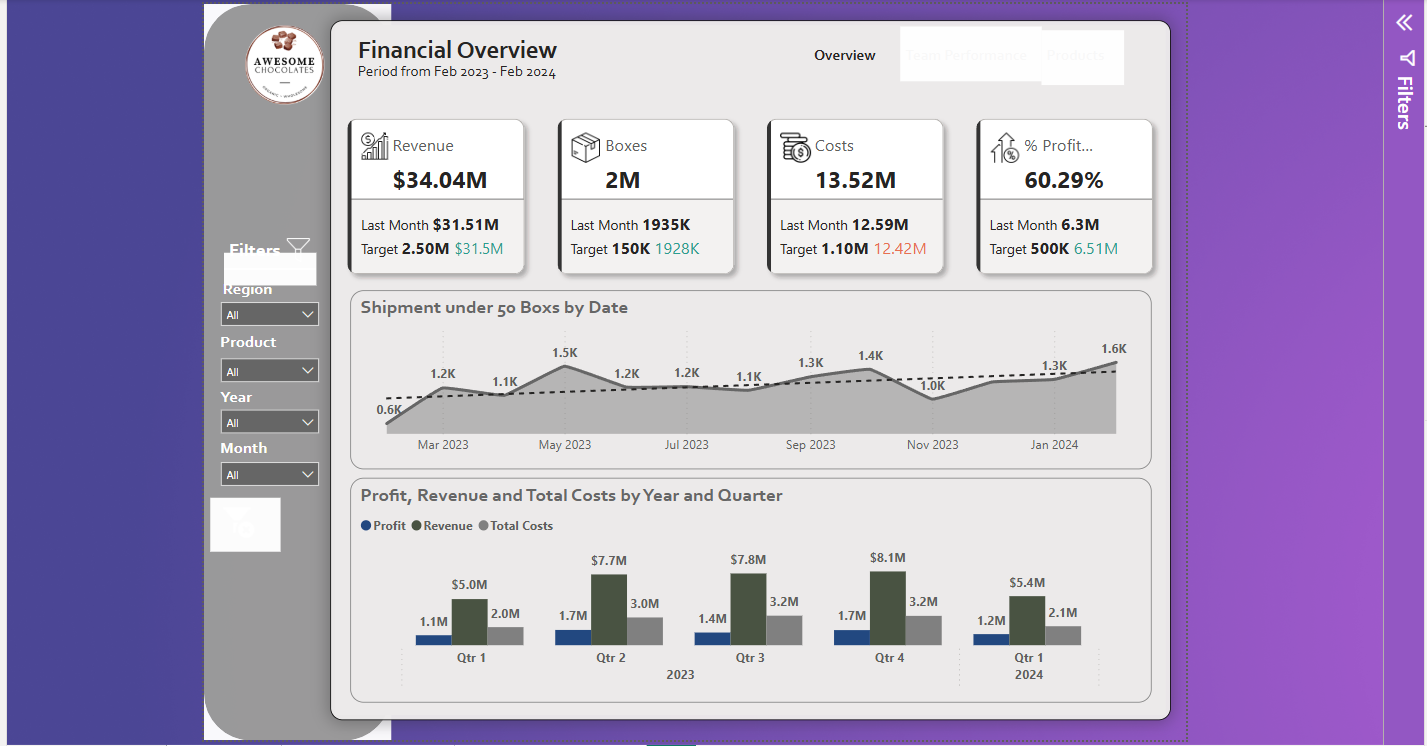

Layout of this report page (visuals, bound fields, positions):
{"tool":"powerbi","page":{"name":"Overview","canvas":[960,720],"ordinal":0},"visuals":[{"type":"shape","box":[0,0,183,720.6],"z":0},{"type":"shape","box":[123.1,16.2,822.6,684.9],"z":1000},{"type":"image","box":[35.6,16.2,87.4,87.4],"z":2000},{"type":"textbox","box":[19.4,223.5,72.9,35.6],"z":3000},{"type":"image","box":[74.5,215.4,35.6,51.8],"z":4000},{"type":"shape","box":[19.4,242.9,90.7,32.4],"z":5000},{"type":"slicer","fields":{"Values":["locations.Region"]},"box":[6.5,281.7,116.6,51.8],"z":6000},{"type":"slicer","fields":{"Values":["products.Product"]},"box":[6.5,336.8,116.6,50.2],"z":7000},{"type":"slicer","fields":{"Values":["calendar.Date.Variation.Date Hierarchy.Year"]},"box":[6.5,387,116.6,50.2],"z":8000},{"type":"textbox","box":[11.3,369.2,72.9,35.6],"z":9000},{"type":"textbox","box":[11.3,315.7,72.9,35.6],"z":10000},{"type":"textbox","box":[13,263.9,72.9,35.6],"z":11000},{"type":"textbox","box":[145.7,24.3,218.6,51.8],"z":12000},{"type":"textbox","box":[145.7,51.8,242.9,51.8],"z":13000},{"type":"cardVisual","fields":{"Data":["calendar.Revenue","calendar.#Boxes","calendar.Total Costs","calendar.% Profit Margins"]},"box":[123.1,95.5,822.6,186.2],"z":14000},{"type":"slicer","fields":{"Values":["calendar.Date.Variation.Date Hierarchy.Month"]},"box":[6.5,437.2,116.6,51.8],"z":15000},{"type":"textbox","box":[11.3,419.4,72.9,35.6],"z":16000},{"type":"lineChart","title":"Shipment under 50 Boxs by Date","fields":{"Category":["calendar.Date.Variation.Date Hierarchy.Year","calendar.Date.Variation.Date Hierarchy.Quarter","calendar.Date.Variation.Date Hierarchy.Month"],"Y":["Comparsions.Shipment under 50 Boxs"]},"box":[142.5,280.1,783.7,174.9],"z":17000},{"type":"clusteredColumnChart","fields":{"Category":["calendar.Date.Variation.Date Hierarchy.Year","calendar.Date.Variation.Date Hierarchy.Quarter"],"Y":["calendar.Profit","calendar.Revenue","calendar.Total Costs"]},"box":[142.5,463.1,783.7,220.2],"z":18000},{"type":"image","box":[8.6,483,47.7,44],"z":19000},{"type":"actionButton","box":[6.1,483,68.5,52.6],"z":20000},{"type":"textbox","box":[591.9,35.5,80.7,33],"z":21000},{"type":"textbox","box":[681.1,35.5,138.2,33],"z":22000},{"type":"actionButton","box":[681.1,22,138.2,53.8],"z":23000},{"type":"textbox","box":[819.3,35.5,80.7,33],"z":24000},{"type":"actionButton","box":[819.3,25.9,81,53.4],"z":25000}]}

Visuals, with their boxes on the page's 960x720 design canvas (x1, y1, x2, y2). These are canvas units, not pixel positions in the 1427x746 screenshot, which may show the page scaled, cropped or inside an application window:
shape: 0:0:183:721
shape: 123:16:946:701
image: 36:16:123:104
textbox: 19:224:92:259
image: 74:215:110:267
shape: 19:243:110:275
slicer - locations.Region: 6:282:123:334
slicer - products.Product: 6:337:123:387
slicer - calendar.Date.Variation.Date Hierarchy.Year: 6:387:123:437
textbox: 11:369:84:405
textbox: 11:316:84:351
textbox: 13:264:86:300
textbox: 146:24:364:76
textbox: 146:52:389:104
cardVisual - calendar.Revenue x calendar.#Boxes: 123:96:946:282
slicer - calendar.Date.Variation.Date Hierarchy.Month: 6:437:123:489
textbox: 11:419:84:455
"Shipment under 50 Boxs by Date" lineChart: 142:280:926:455
clusteredColumnChart - calendar.Date.Variation.Date Hierarchy.Year x calendar.Date.Variation.Date Hierarchy.Quarter: 142:463:926:683
image: 9:483:56:527
actionButton: 6:483:75:536
textbox: 592:36:673:68
textbox: 681:36:819:68
actionButton: 681:22:819:76
textbox: 819:36:900:68
actionButton: 819:26:900:79
